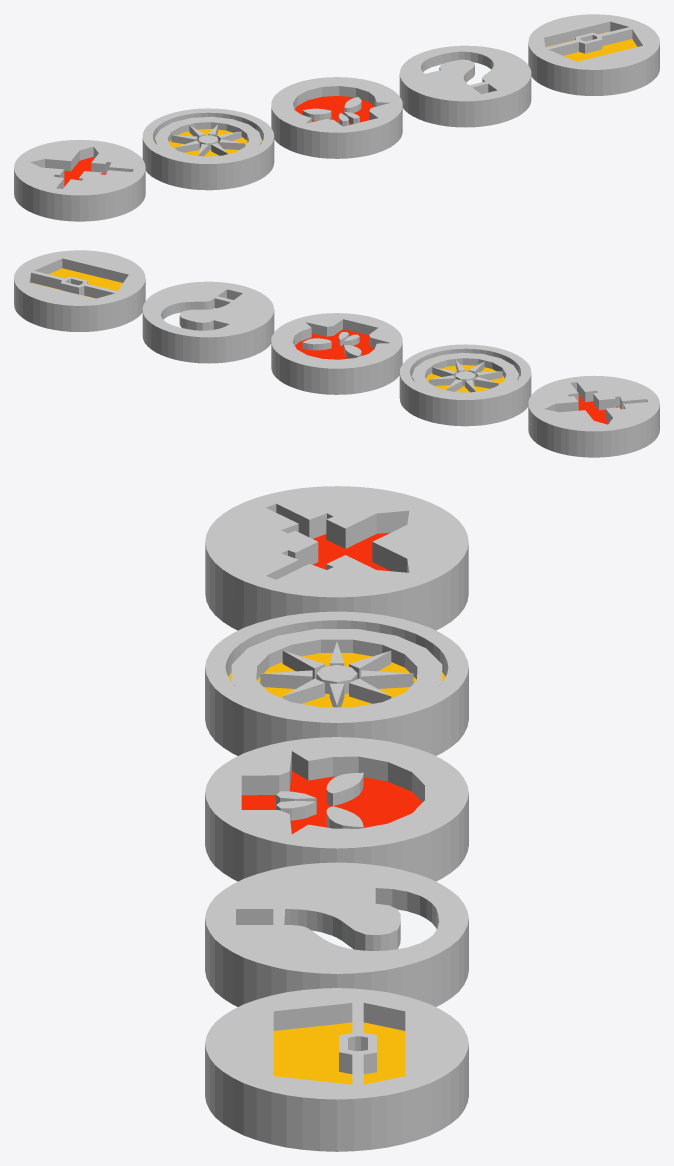
File: map_icons.glb
The picture shows the model from 3 angles, top to bottom: view 1: azimuth 30°, elevation 25°; view 2: azimuth 150°, elevation 25°; view 3: azimuth 270°, elevation 25°; orthographic projection. The views are drawn at different scales.
Parts seen in each view (by area): view 1: story, shop, combat, elite, item; view 2: story, shop, combat, elite, item; view 3: item, story, shop, combat, elite.
Boxes of the visible parts, x1,y1,x2,y2 form: story: [399, 45, 531, 127]; shop: [142, 108, 274, 190]; combat: [14, 139, 145, 221]; elite: [271, 77, 402, 158]; item: [528, 14, 659, 95]; story: [142, 281, 274, 363]; shop: [399, 344, 531, 426]; combat: [528, 375, 659, 457]; elite: [271, 313, 402, 394]; item: [14, 250, 145, 331]; item: [205, 988, 468, 1151]; story: [205, 862, 468, 1006]; shop: [205, 611, 468, 755]; combat: [205, 486, 468, 630]; elite: [205, 737, 468, 881].
Bounding box in the file's own units: 9.78 × 0.389 × 1.78.
